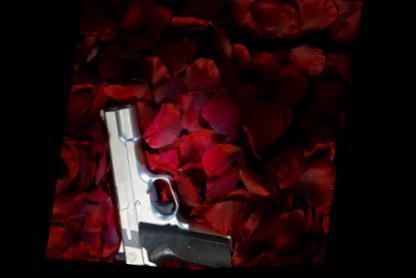pistol: (75, 94, 260, 272)
